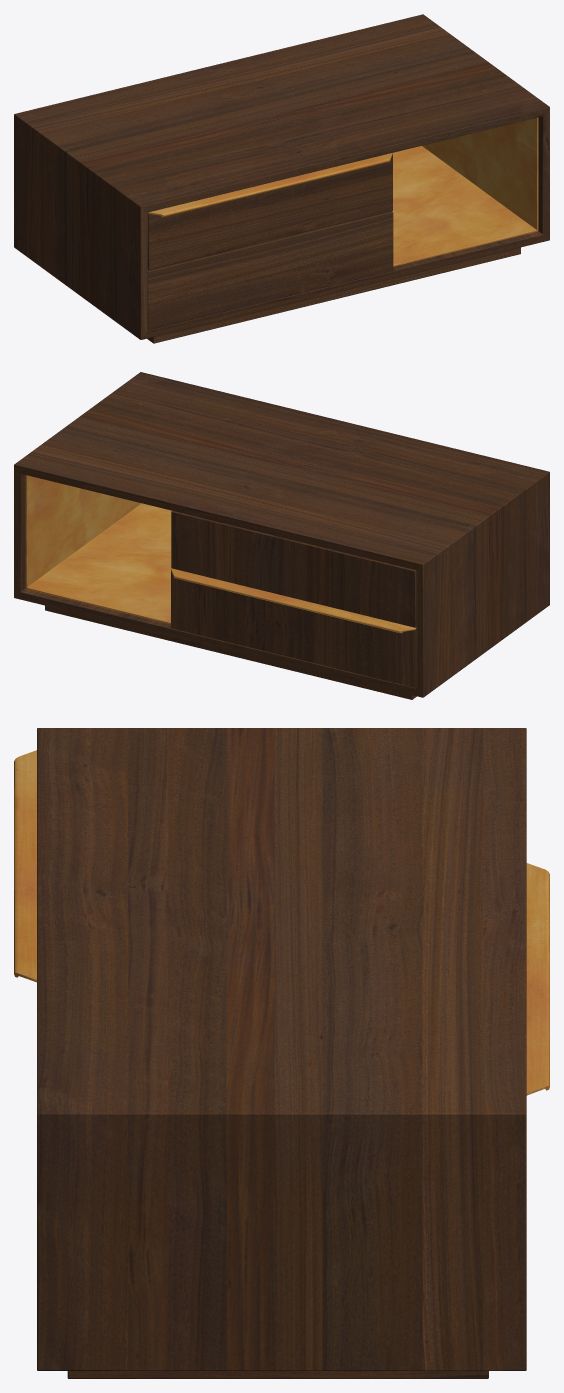
File: anderson_coffe_table_mango_wood.glb
The picture shows the model from 3 angles, top to bottom: view 1: azimuth 30°, elevation 25°; view 2: azimuth 150°, elevation 25°; view 3: azimuth 270°, elevation 25°; orthographic projection. The views are drawn at different scales.
Visible parts, largest first — view 1: Anderson_Coffee_Table_MANGO_WOOD_0, Anderson_Coffee_Table_BRASS_0; view 2: Anderson_Coffee_Table_MANGO_WOOD_0, Anderson_Coffee_Table_BRASS_0; view 3: Anderson_Coffee_Table_MANGO_WOOD_0, Anderson_Coffee_Table_BRASS_0.
Boxes of the visible parts, x1,y1,x2,y2 form: Anderson_Coffee_Table_MANGO_WOOD_0: (14,14,549,343); Anderson_Coffee_Table_BRASS_0: (148,117,538,266); Anderson_Coffee_Table_MANGO_WOOD_0: (14,372,549,699); Anderson_Coffee_Table_BRASS_0: (25,475,416,633); Anderson_Coffee_Table_MANGO_WOOD_0: (37,728,526,1378); Anderson_Coffee_Table_BRASS_0: (14,750,549,1095).
Size of what is drawn, in the model's own units: 110 by 38 by 64.57.
2 materials, 2 textured.
